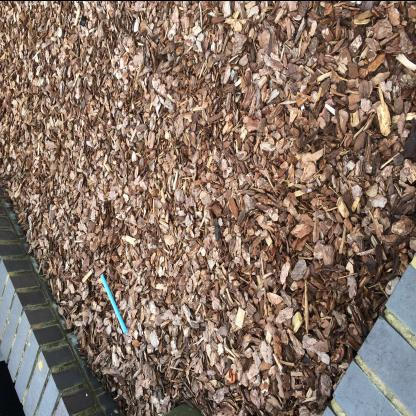plastik: (101, 273, 129, 335)
